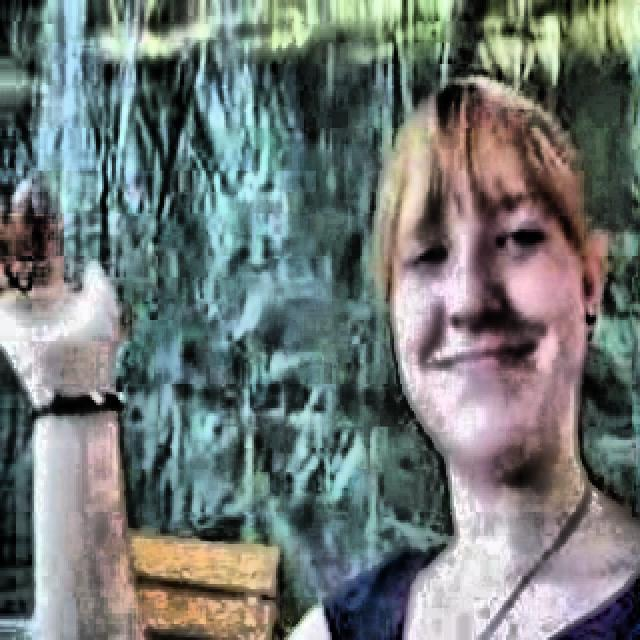T: (6, 72, 634, 623)
